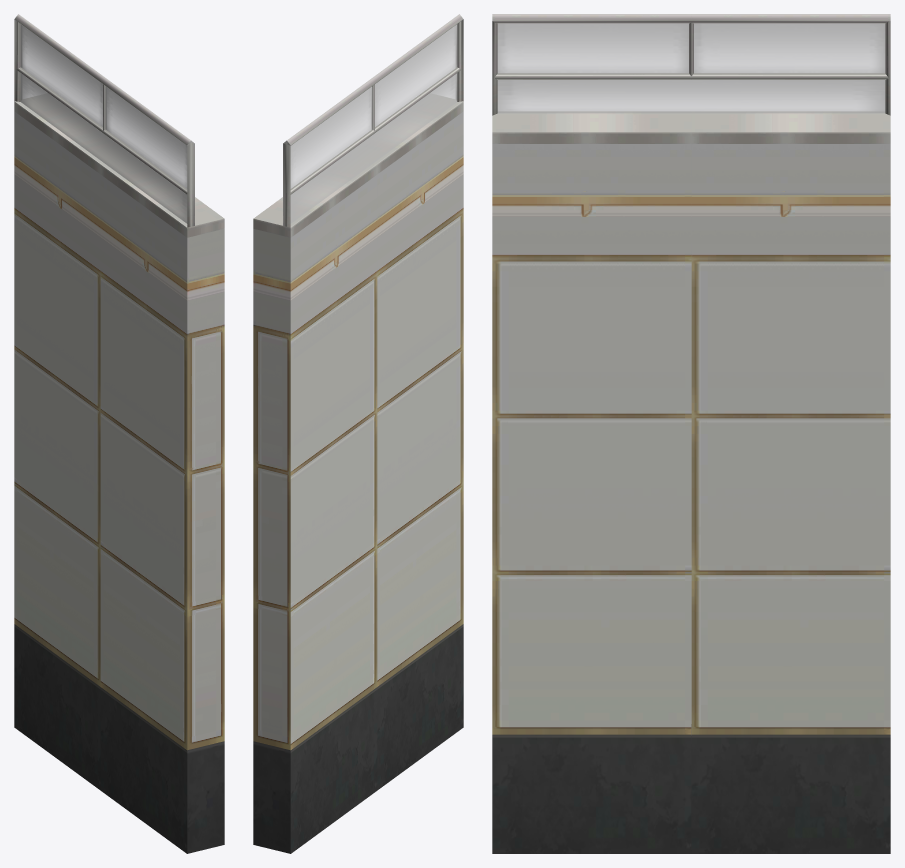
File: my_shoppingmall_01_wall_right_1x2.glb
3 renders of one model, left to right at view 1: azimuth 30°, elevation 25°; view 2: azimuth 150°, elevation 25°; view 3: azimuth 270°, elevation 25°, orthographic. The views are drawn at different scales.
Parts seen in each view (by area): view 1: my_shoppingmall_01_wall_right_1x2; view 2: my_shoppingmall_01_wall_right_1x2; view 3: my_shoppingmall_01_wall_right_1x2.
Boxes of the visible parts, x1,y1,x2,y2 form: my_shoppingmall_01_wall_right_1x2: (14, 14, 224, 853); my_shoppingmall_01_wall_right_1x2: (253, 14, 463, 853); my_shoppingmall_01_wall_right_1x2: (492, 14, 890, 853).
Size of the model in its own units: 0.003 by 0.0546 by 0.024.
2 materials, 2 textured.
